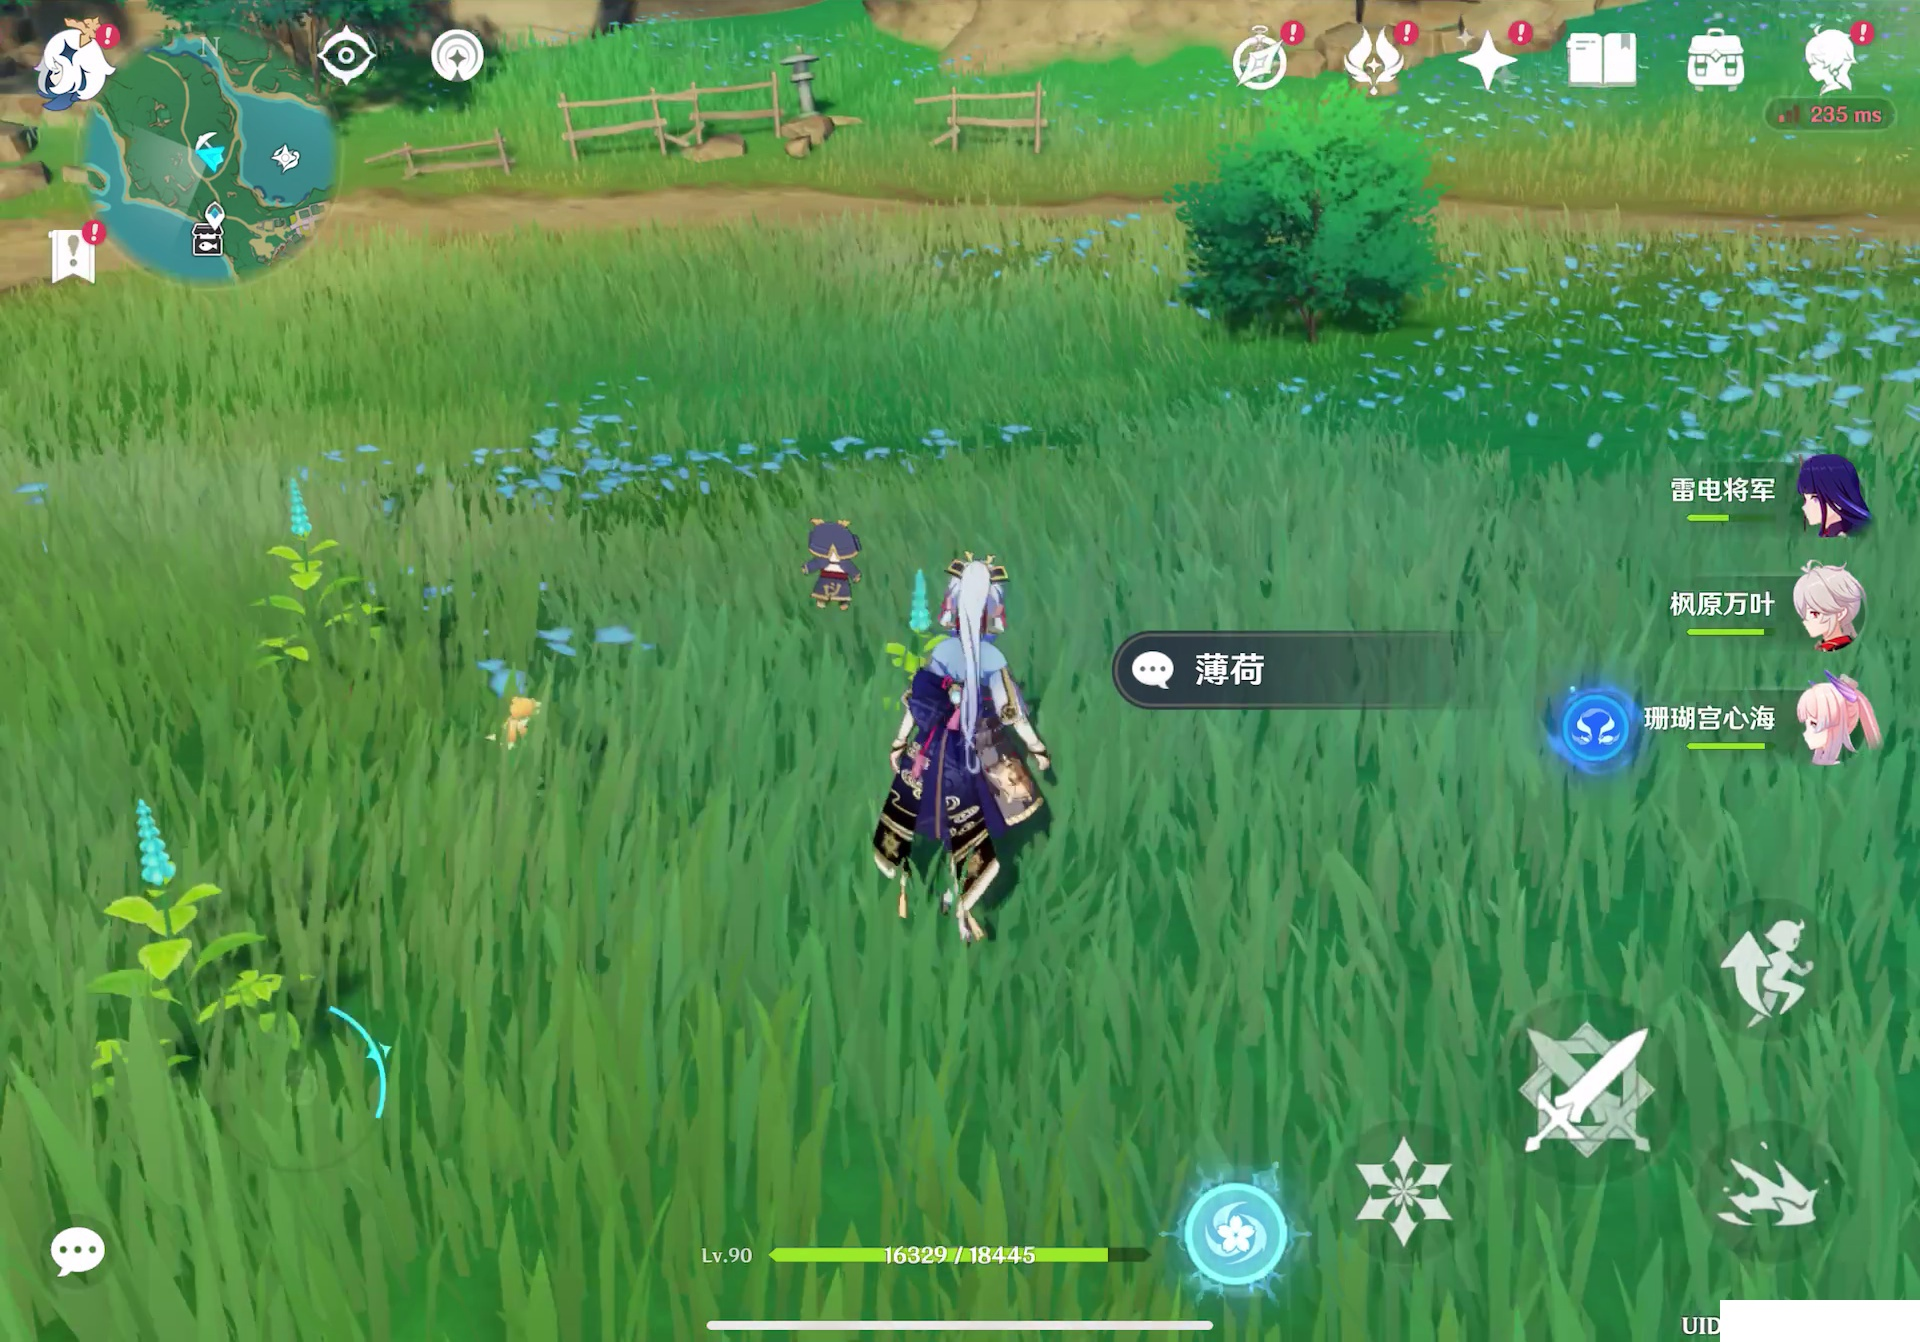没用的甜甜花: (492, 680, 566, 770)
没用的薄荷: (64, 798, 308, 1028), (223, 470, 388, 687), (891, 572, 932, 639)
神里绫龟: (880, 535, 1053, 953)
